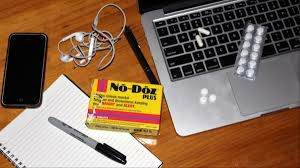pen: (48, 114, 125, 163), (120, 25, 157, 89)
